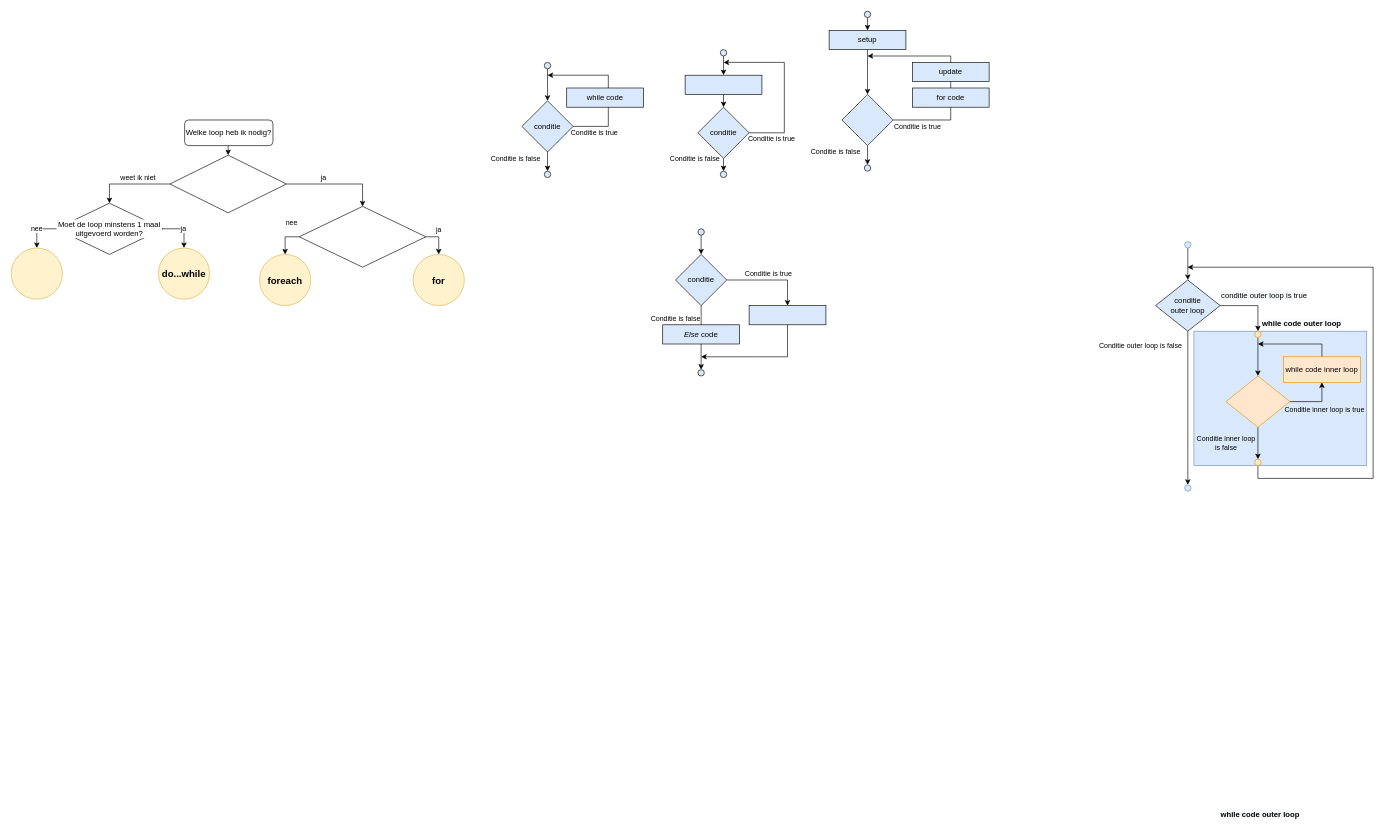
This 1389x831 diagram has some shape labels left out. Each missing label, with the centre of its shape:
"conditie inner loop" goes at point 1257,401.
"do while code" goes at point 723,84.
"finish test" goes at point 867,120.
"Heb je een teller/index nodigin de loop?" goes at point 362,236.
"If code" goes at point 787,315.
"Moet" goes at point 227,184.
"while" goes at point 36,273.
